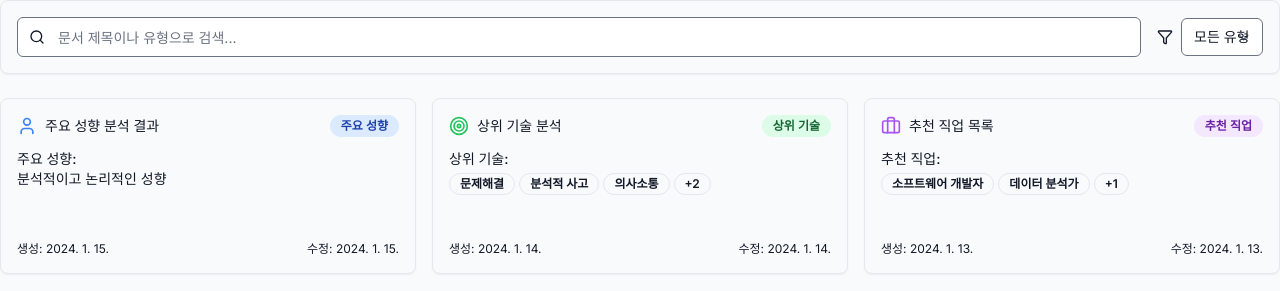
Scenario: DocumentsGrid › filters documents by search term
Note: Search for "주요"
Type "주요" into the field with placeholder "문서 제목이나 유형으로 검색..." at (579, 37), box [17,17,1141,57]
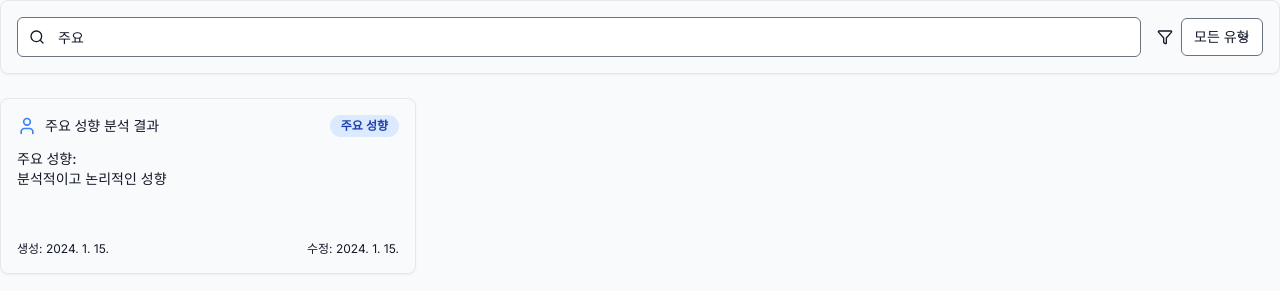
Check: the text "주요 성향 분석 결과" is shown, box [45,116,159,136]
Check: the text "상위 기술 분석" is gone
Check: the text "추천 직업 목록" is gone
